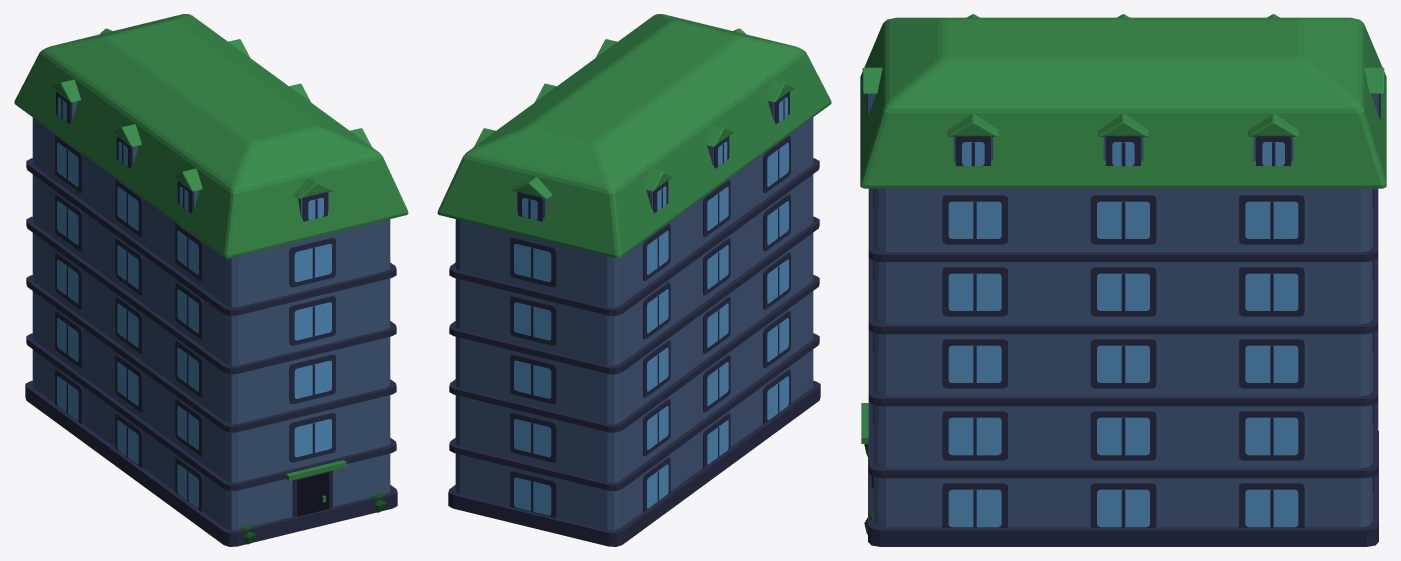
File: house-1x2-5f-mansard-b.glb
3 views of the same model, side by side, from view 1: azimuth 30°, elevation 25°; view 2: azimuth 150°, elevation 25°; view 3: azimuth 270°, elevation 25° (orthographic). The views are drawn at different scales.
Visible parts, largest first — view 1: house-1x2-5f-mansard-b; view 2: house-1x2-5f-mansard-b; view 3: house-1x2-5f-mansard-b.
Boxes of the visible parts, <box> form: house-1x2-5f-mansard-b: <box>14,14,408,546</box>; house-1x2-5f-mansard-b: <box>437,14,831,546</box>; house-1x2-5f-mansard-b: <box>860,14,1386,546</box>.
Bounding box in the file's own units: 0.9876 × 1.9 × 1.99.
1 material, 1 textured.
